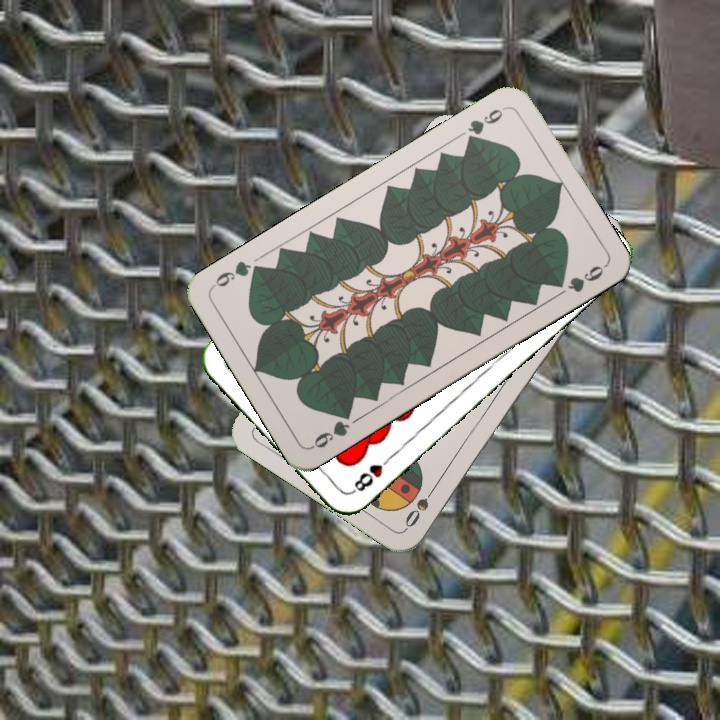G9: (307, 406, 355, 451), (462, 102, 509, 147)
H8: (348, 451, 395, 496)
SO: (400, 479, 441, 530)
